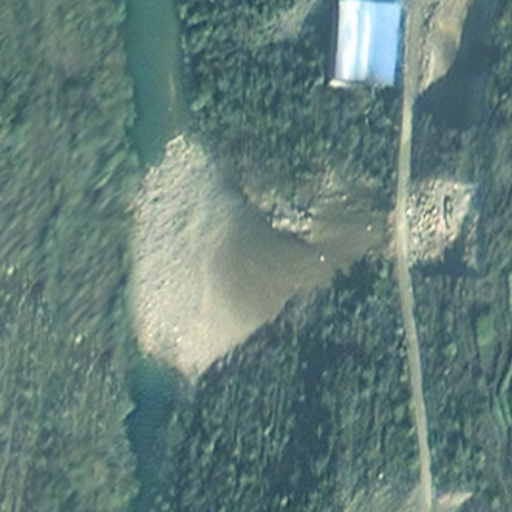landslide: (137, 145, 272, 368), (417, 171, 476, 264)
